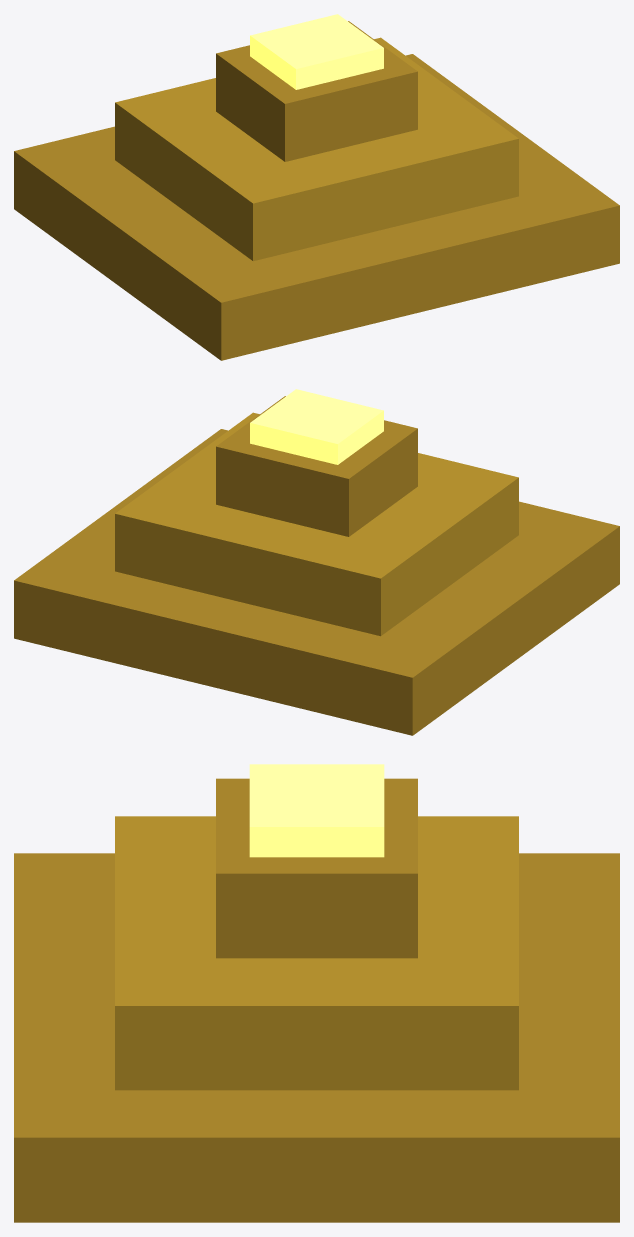
The model's file is dba-gold-pile.glb.
3 views of the same model, one above another, from view 1: azimuth 30°, elevation 25°; view 2: azimuth 150°, elevation 25°; view 3: azimuth 270°, elevation 25° (orthographic). The views are drawn at different scales.
Parts seen in each view (by area): view 1: box-prop; view 2: box-prop; view 3: box-prop.
Boxes of the visible parts, <box> form: box-prop: <box>14,14,619,360</box>; box-prop: <box>14,389,619,735</box>; box-prop: <box>14,764,619,1222</box>.
Bounding box in the file's own units: 1.2 × 0.56 × 1.08.
